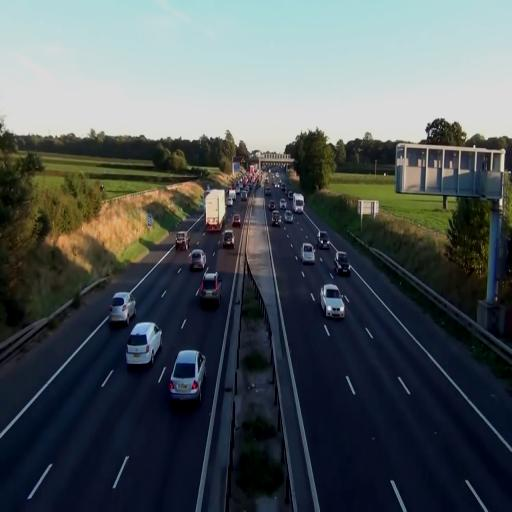vehicle: (169, 348, 206, 404), (125, 321, 162, 365), (320, 284, 346, 319), (205, 189, 225, 234), (198, 272, 221, 308), (109, 292, 129, 326), (334, 250, 351, 276), (189, 248, 207, 272), (220, 229, 236, 249), (301, 241, 315, 263), (268, 206, 282, 226), (318, 232, 329, 249)
